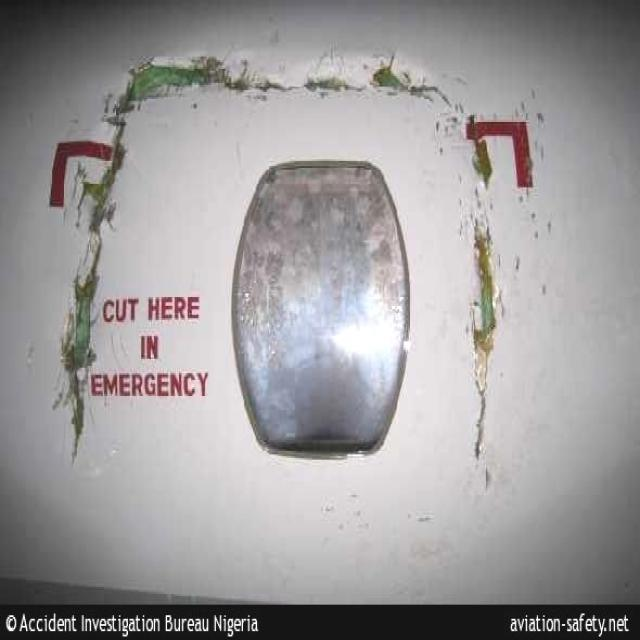crack: (62, 57, 506, 469)
